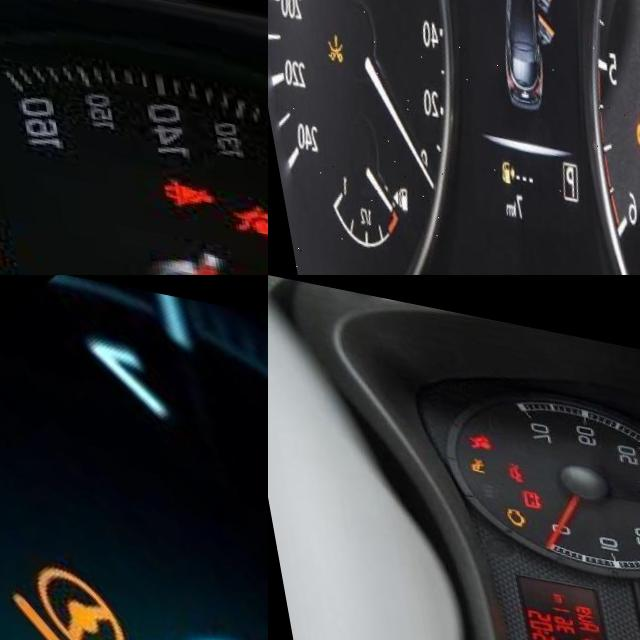Seat Belt: (153, 167, 210, 204)
